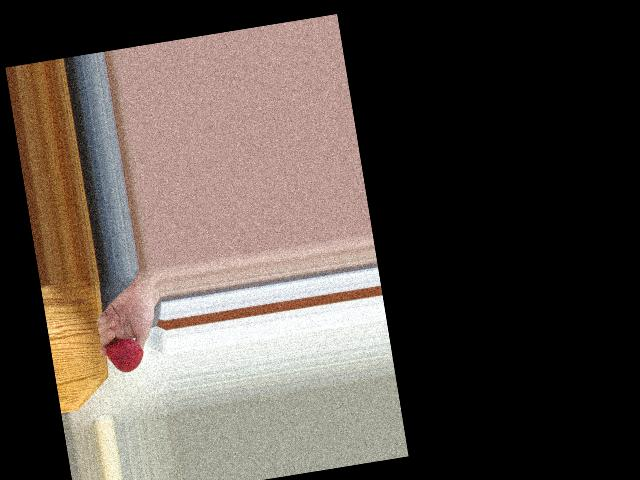apple: (107, 336, 146, 374)
